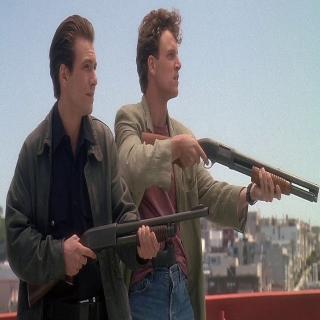gun: (23, 203, 210, 306), (138, 124, 319, 203)
